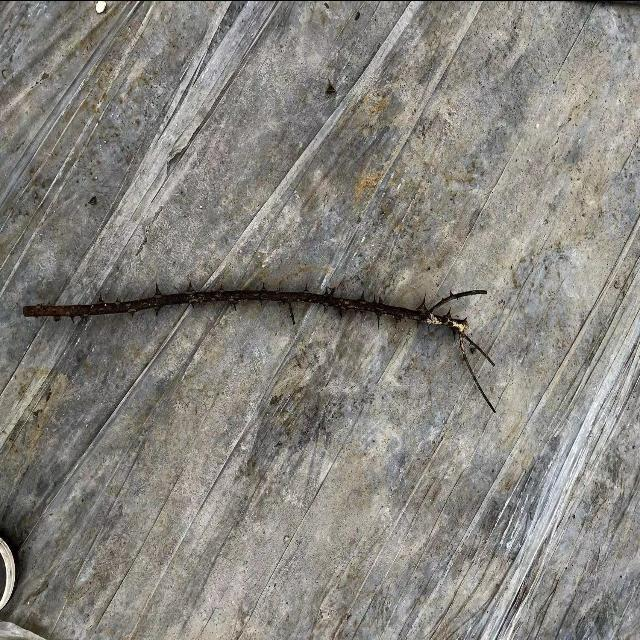branch: (23, 287, 447, 321)
